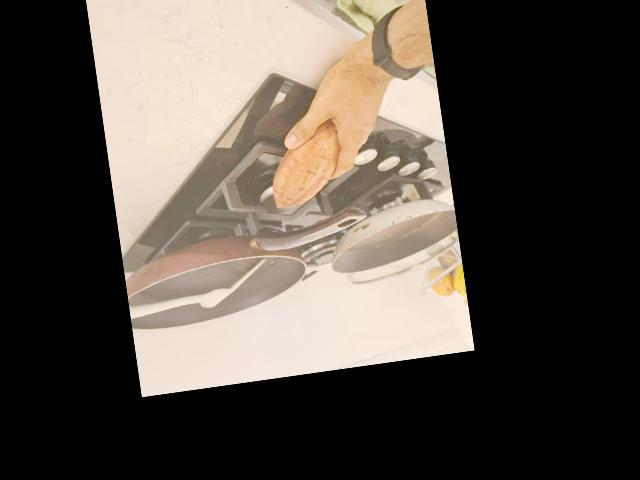sweet_potato: (260, 114, 346, 210)
